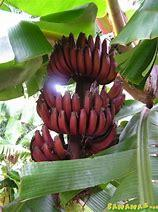banana: (28, 35, 130, 158)
